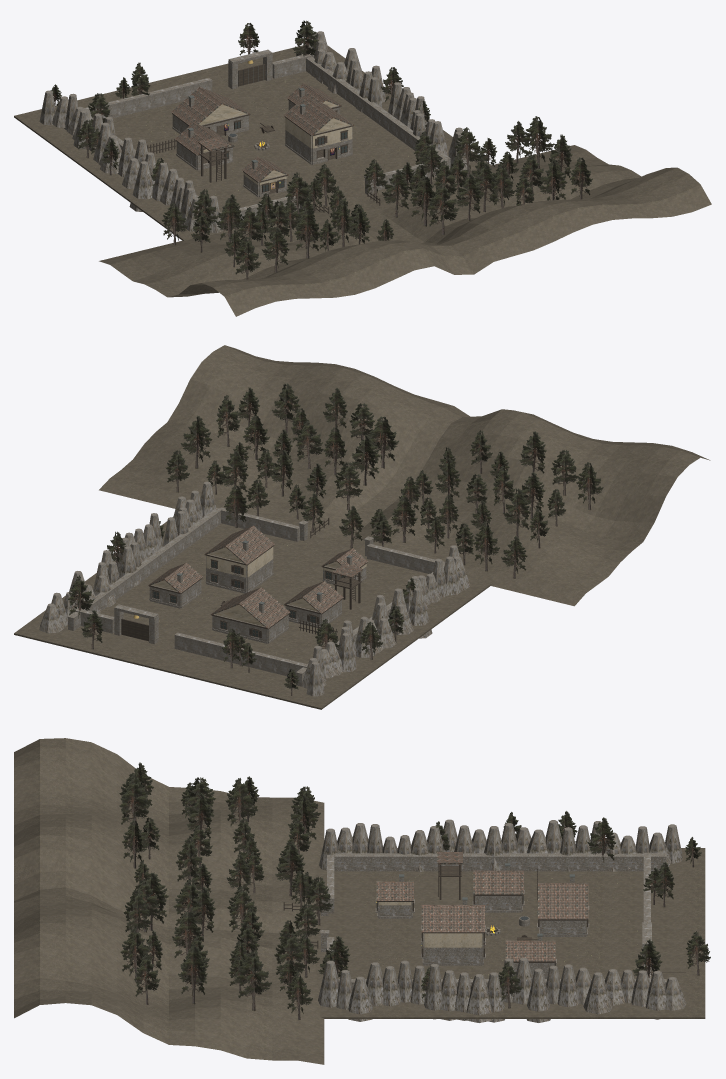
The model's file is village.glb.
3 views of the same model, one above another, from view 1: azimuth 30°, elevation 25°; view 2: azimuth 150°, elevation 25°; view 3: azimuth 270°, elevation 25° (orthographic). The views are drawn at different scales.
Parts seen in each view (by area): view 1: Ground, Cliffs, Perimeter, ApproachTerrain_0_-3, ApproachTerrain_-1_-3, ApproachTerrain_-2_-2, ApproachTerrain_0_-4, ApproachTerrain_1_-3, ApproachTerrain_0_-2, ApproachTerrain_-1_-4, ApproachTerrain_-1_-2, PinePatch_2_-4 (+32 smaller); view 2: Ground, ApproachTerrain_0_-3, Cliffs, ApproachTerrain_-1_-3, ApproachTerrain_-2_-3, Perimeter, ApproachTerrain_1_-3, ApproachTerrain_-2_-2, ApproachTerrain_0_-2, ApproachTerrain_-1_-2, ApproachTerrain_1_-2, PinePatch_0_-4 (+29 smaller); view 3: Ground, Cliffs, ApproachTerrain_-1_-3, ApproachTerrain_0_-3, ApproachTerrain_-1_-2, ApproachTerrain_1_-2, ApproachTerrain_-2_-3, Perimeter, ApproachTerrain_1_-3, ApproachTerrain_0_-2, ApproachTerrain_-2_-2, ApproachTerrain_-1_-4 (+33 smaller).
Part boxes in pixels (left/top/right/bottom): Ground: left=14, top=45, right=491, bottom=240; Cliffs: left=39, top=31, right=470, bottom=233; Perimeter: left=84, top=53, right=450, bottom=227; ApproachTerrain_0_-3: left=397, top=192, right=619, bottom=256; ApproachTerrain_-1_-3: left=235, top=238, right=461, bottom=284; ApproachTerrain_-2_-2: left=99, top=242, right=233, bottom=289; ApproachTerrain_0_-4: left=462, top=204, right=631, bottom=274; ApproachTerrain_1_-3: left=553, top=167, right=699, bottom=204; ApproachTerrain_0_-2: left=360, top=164, right=546, bottom=240; ApproachTerrain_-1_-4: left=304, top=248, right=473, bottom=298; ApproachTerrain_-1_-2: left=178, top=206, right=392, bottom=263; PinePatch_2_-4: left=499, top=116, right=572, bottom=197; Ground: left=14, top=517, right=491, bottom=709; ApproachTerrain_0_-3: left=243, top=365, right=461, bottom=502; Cliffs: left=39, top=481, right=470, bottom=707; ApproachTerrain_-1_-3: left=394, top=409, right=620, bottom=525; ApproachTerrain_-2_-3: left=553, top=445, right=699, bottom=551; Perimeter: left=68, top=507, right=445, bottom=686; ApproachTerrain_1_-3: left=156, top=345, right=303, bottom=449; ApproachTerrain_-2_-2: left=495, top=525, right=631, bottom=606; ApproachTerrain_0_-2: left=186, top=451, right=393, bottom=537; ApproachTerrain_-1_-2: left=344, top=500, right=551, bottom=586; ApproachTerrain_1_-2: left=99, top=432, right=233, bottom=508; PinePatch_0_-4: left=305, top=427, right=380, bottom=510; Ground: left=279, top=848, right=705, bottom=1018; Cliffs: left=318, top=819, right=686, bottom=1022; ApproachTerrain_-1_-3: left=40, top=790, right=194, bottom=928; ApproachTerrain_0_-3: left=40, top=887, right=194, bottom=1007; ApproachTerrain_-1_-2: left=196, top=822, right=322, bottom=932; ApproachTerrain_1_-2: left=195, top=999, right=324, bottom=1064; ApproachTerrain_-2_-3: left=40, top=738, right=194, bottom=829; Perimeter: left=327, top=852, right=666, bottom=987; ApproachTerrain_1_-3: left=40, top=962, right=194, bottom=1046; ApproachTerrain_0_-2: left=195, top=929, right=324, bottom=1020; ApproachTerrain_-2_-2: left=195, top=790, right=324, bottom=845; ApproachTerrain_-1_-4: left=14, top=790, right=39, bottom=900.
Bounding box in the file's own units: 96 × 18.33 × 108.
Materials: 20 (13 with a texture image).
